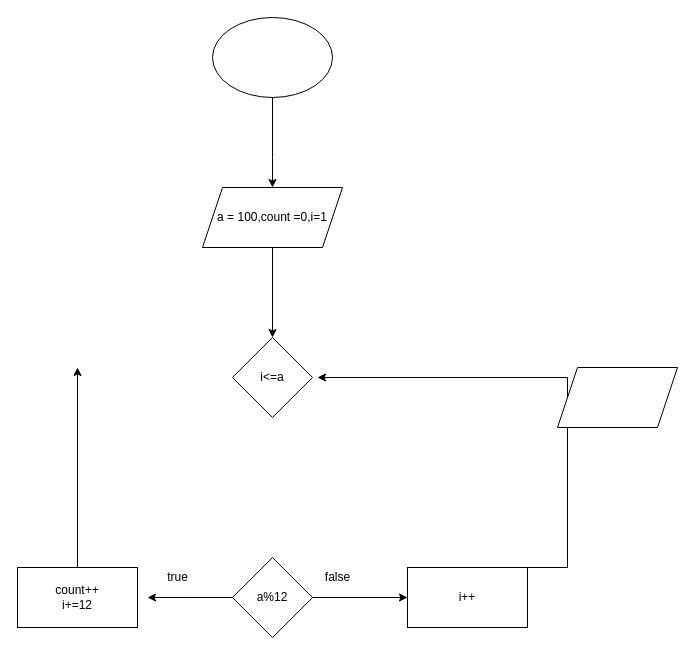
Some shapes in this 695 by 655 pixel diagram are drawn without their labels. Here are the shapes that lost their labels. From the top down, the centre of each, then its label:
At point (272, 57): "start".
At point (617, 397): "print count".
